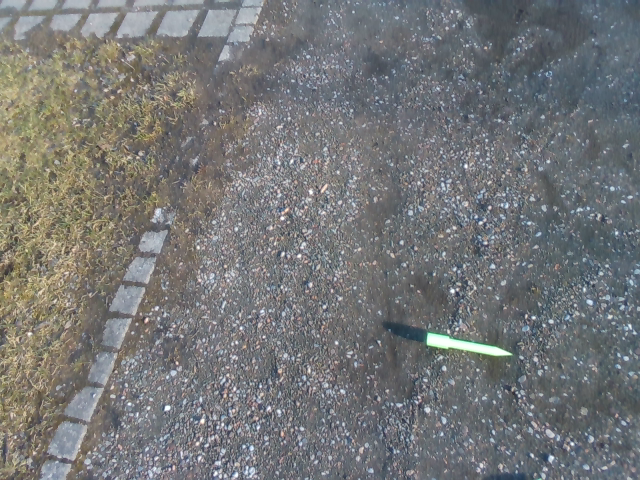Probe: (423, 329, 516, 363)
